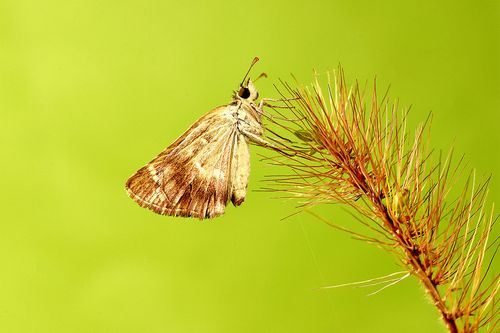Hesperiidae: (121, 53, 274, 223)
